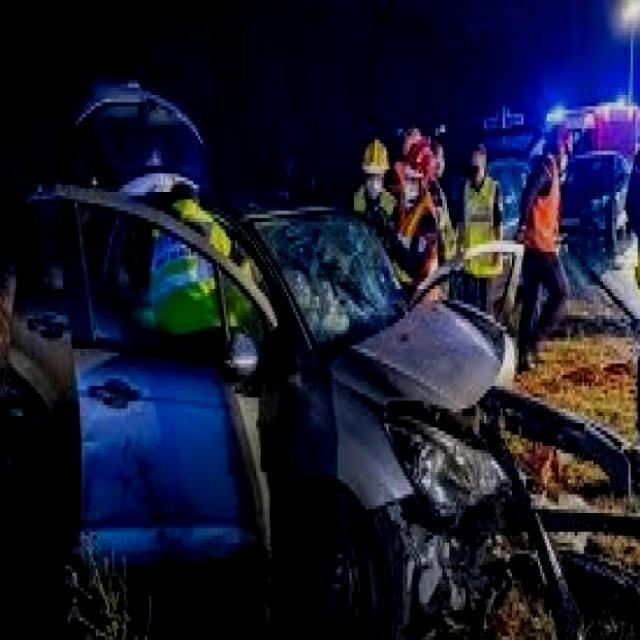accident: (0, 63, 584, 640)
